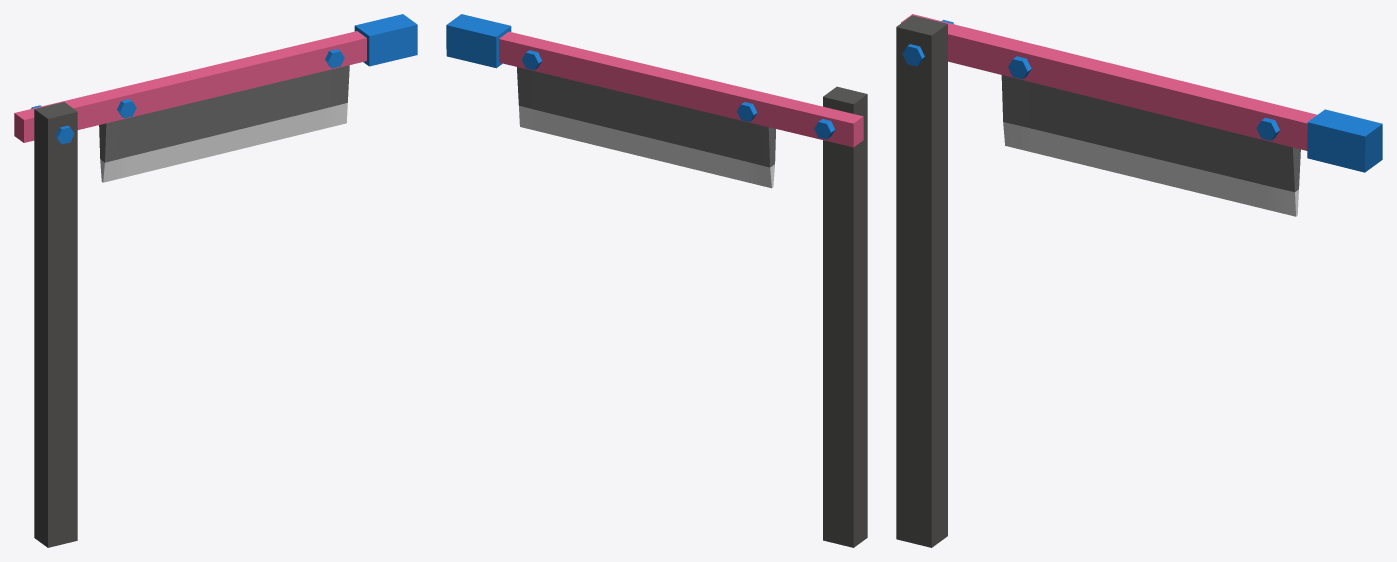
Rendered from trap_08.fbx.
3 renders of one model, left to right at view 1: azimuth 30°, elevation 25°; view 2: azimuth 150°, elevation 25°; view 3: azimuth 330°, elevation 25°, orthographic. The views are drawn at different scales.
Parts seen in each view (by area): view 1: trap_05, pCube30; view 2: trap_05, pCube30; view 3: trap_05, pCube30.
Boxes of the visible parts, x1,y1,x2,y2 form: trap_05: [14, 14, 417, 182]; pCube30: [34, 102, 77, 547]; trap_05: [446, 14, 863, 188]; pCube30: [823, 86, 867, 547]; trap_05: [901, 14, 1382, 216]; pCube30: [896, 15, 947, 547].
Size of the model in its own units: 1887 by 1976 by 252.
